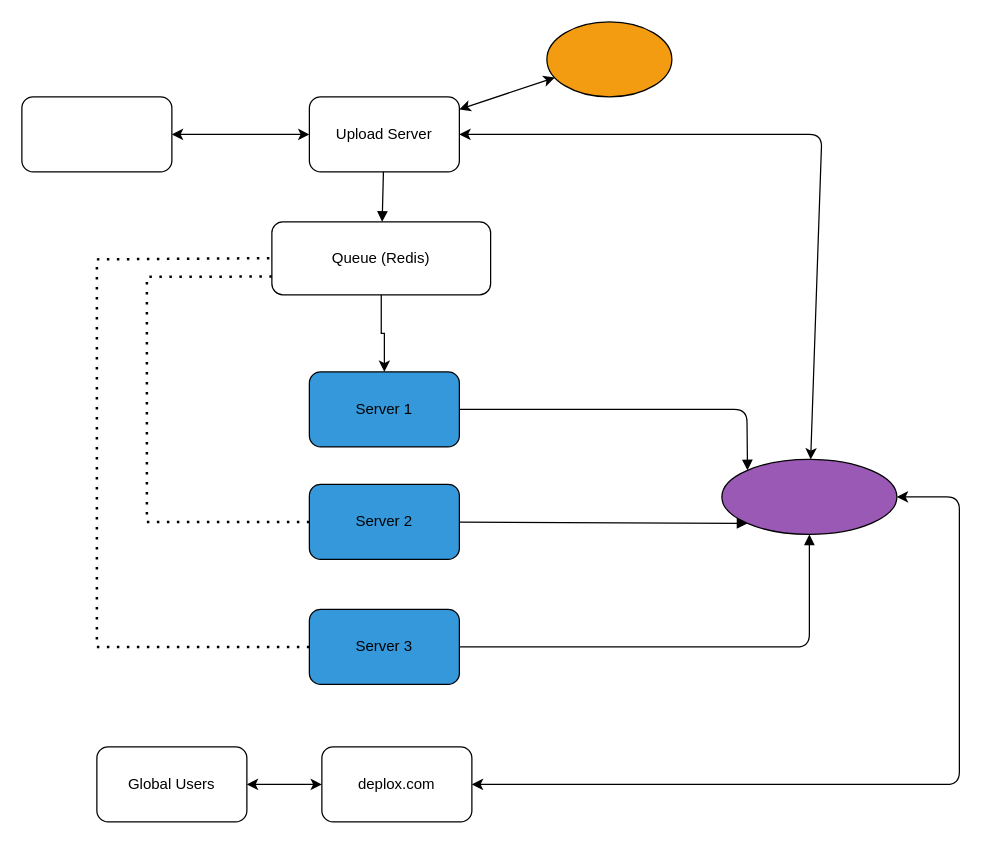
The diagram is 993 pixels wide and 844 high, and some of its shapes have lost their labels. Each missing label, with the centre of its shape:
"GitHub" goes at point (609, 59).
"S3" goes at point (809, 496).
"User" goes at point (96, 134).
